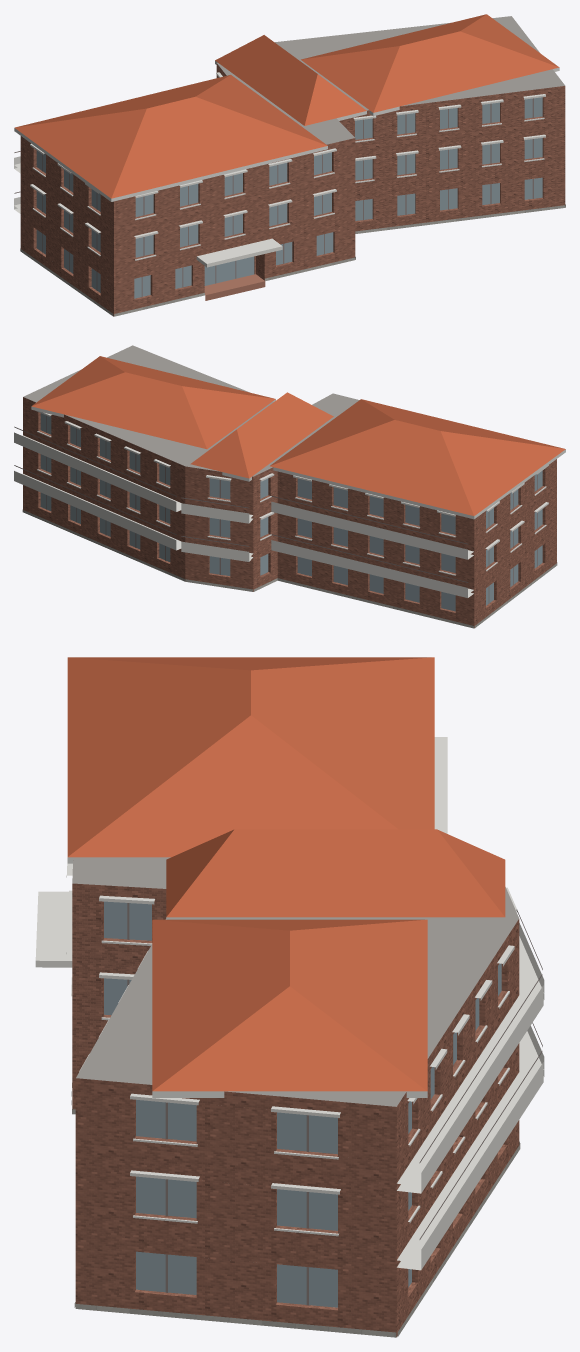
3 views of the same model, one above another, from view 1: azimuth 30°, elevation 25°; view 2: azimuth 150°, elevation 25°; view 3: azimuth 270°, elevation 25° (orthographic). The views are drawn at different scales.
Parts seen in each view (by area): view 1: osm136242985__wall, osm136242985__roofAccent, osm136242985__glass, osm136242985__roof, osm136242985__trim, osm136242985__base, osm136242985__frame, osm136242985__canopy, osm136242985__entranceThreshold_0; view 2: osm136242985__wall, osm136242985__roofAccent, osm136242985__trim, osm136242985__glass, osm136242985__roof, osm136242985__frame, osm136242985__base; view 3: osm136242985__roofAccent, osm136242985__wall, osm136242985__trim, osm136242985__roof, osm136242985__glass, osm136242985__base, osm136242985__canopy, osm136242985__frame.
Boxes of the visible parts, x1,y1,x2,y2 form: osm136242985__wall: (20,63,565,316); osm136242985__roofAccent: (14,14,559,198); osm136242985__glass: (36,97,542,298); osm136242985__roof: (217,16,565,144); osm136242985__trim: (14,61,559,260); osm136242985__base: (20,204,565,316); osm136242985__frame: (14,98,533,296); osm136242985__canopy: (196,238,282,267); osm136242985__entranceThreshold_0: (204,274,265,300); osm136242985__wall: (23,397,556,628); osm136242985__roofAccent: (31,356,565,515); osm136242985__trim: (14,399,565,597); osm136242985__glass: (40,413,542,611); osm136242985__roof: (23,345,359,476); osm136242985__frame: (14,415,537,603); osm136242985__base: (22,509,557,628); osm136242985__roofAccent: (67,657,505,1091); osm136242985__wall: (72,883,519,1336); osm136242985__trim: (66,737,544,1270); osm136242985__roof: (72,857,518,1337); osm136242985__glass: (104,901,501,1307); osm136242985__base: (71,1083,520,1337); osm136242985__canopy: (35,891,72,967); osm136242985__frame: (127,903,542,1305).
Bounding box in the file's own units: 37.92 × 11.92 × 18.01.
10 materials, 2 textured.
